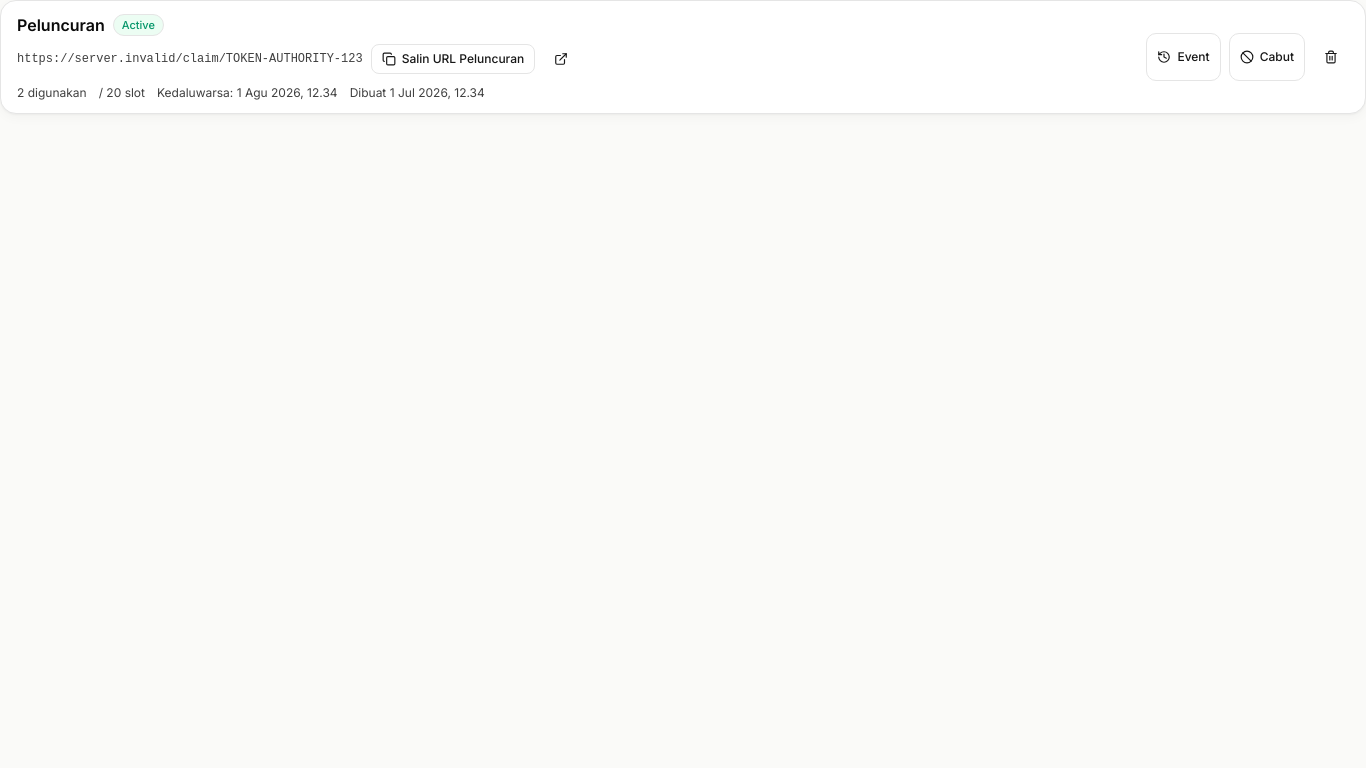
Test: komponen manajemen publikasi › mengonfirmasi penghapusan dengan label dan path objek
This screenshot has width=1366, height=768.
Click the button named "Hapus tautan Peluncuran" at (1331, 57), box [1313,39,1349,75]
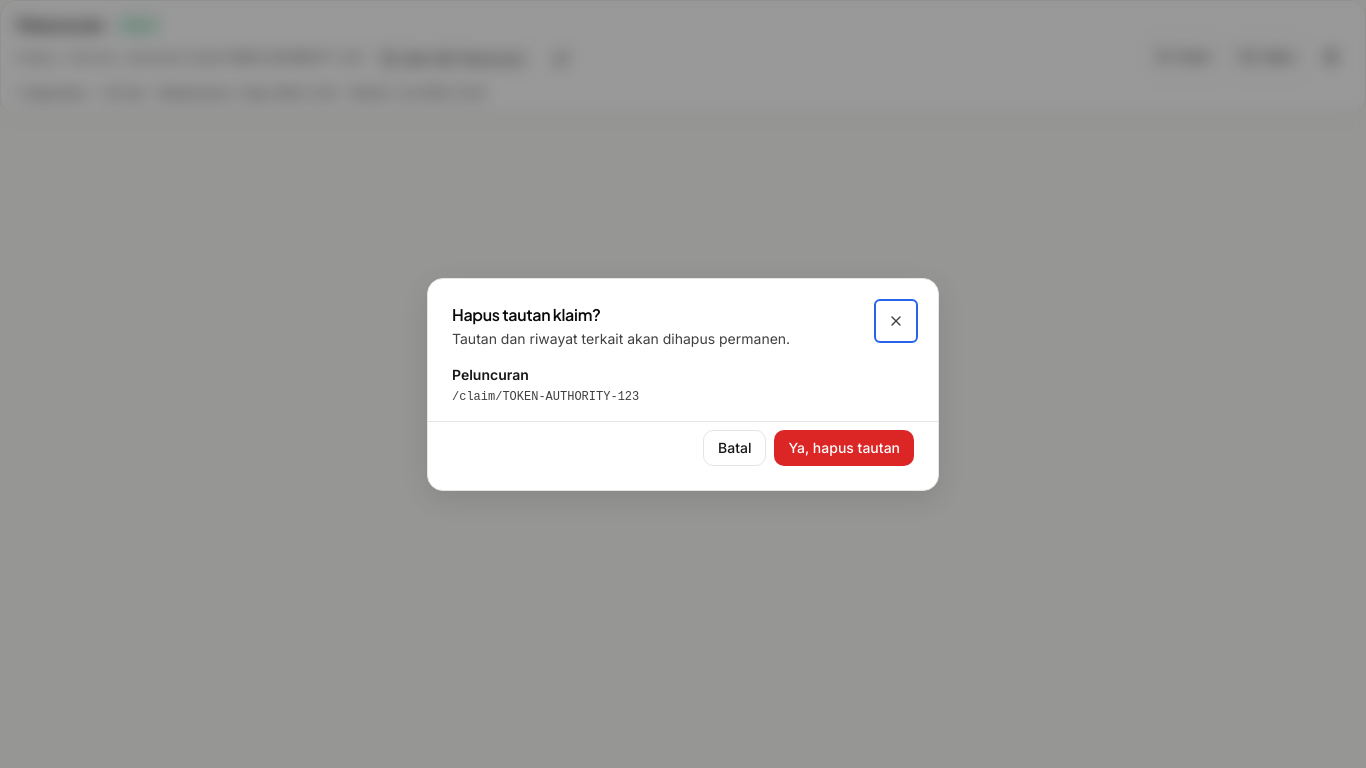
Result: the text "Peluncuran" is shown at [452,366,529,382]
